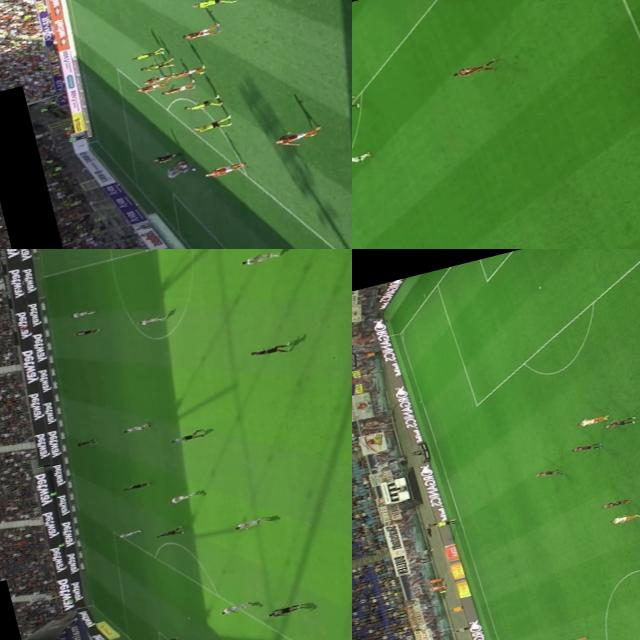ball: (187, 165, 197, 172)
player: (246, 338, 301, 364), (270, 126, 322, 148), (186, 117, 232, 137), (180, 95, 224, 114), (152, 81, 194, 99), (268, 599, 310, 617), (216, 598, 254, 617), (200, 162, 244, 178), (165, 64, 204, 82), (232, 514, 271, 532), (240, 249, 281, 266), (156, 162, 188, 182), (135, 310, 170, 328), (177, 26, 221, 40), (184, 0, 235, 12), (125, 48, 161, 64), (66, 306, 102, 322), (132, 59, 170, 74), (601, 415, 634, 432), (120, 419, 152, 436), (566, 441, 601, 456), (453, 64, 485, 80), (165, 489, 198, 504), (530, 466, 562, 481), (606, 512, 640, 526), (154, 526, 187, 540), (138, 72, 170, 86), (576, 414, 608, 428), (598, 496, 630, 510), (72, 435, 100, 450), (133, 82, 162, 96), (352, 151, 373, 169), (122, 478, 149, 492), (72, 326, 98, 340), (116, 526, 142, 540), (352, 96, 364, 116), (146, 634, 183, 640), (172, 158, 190, 170), (564, 636, 587, 640)
